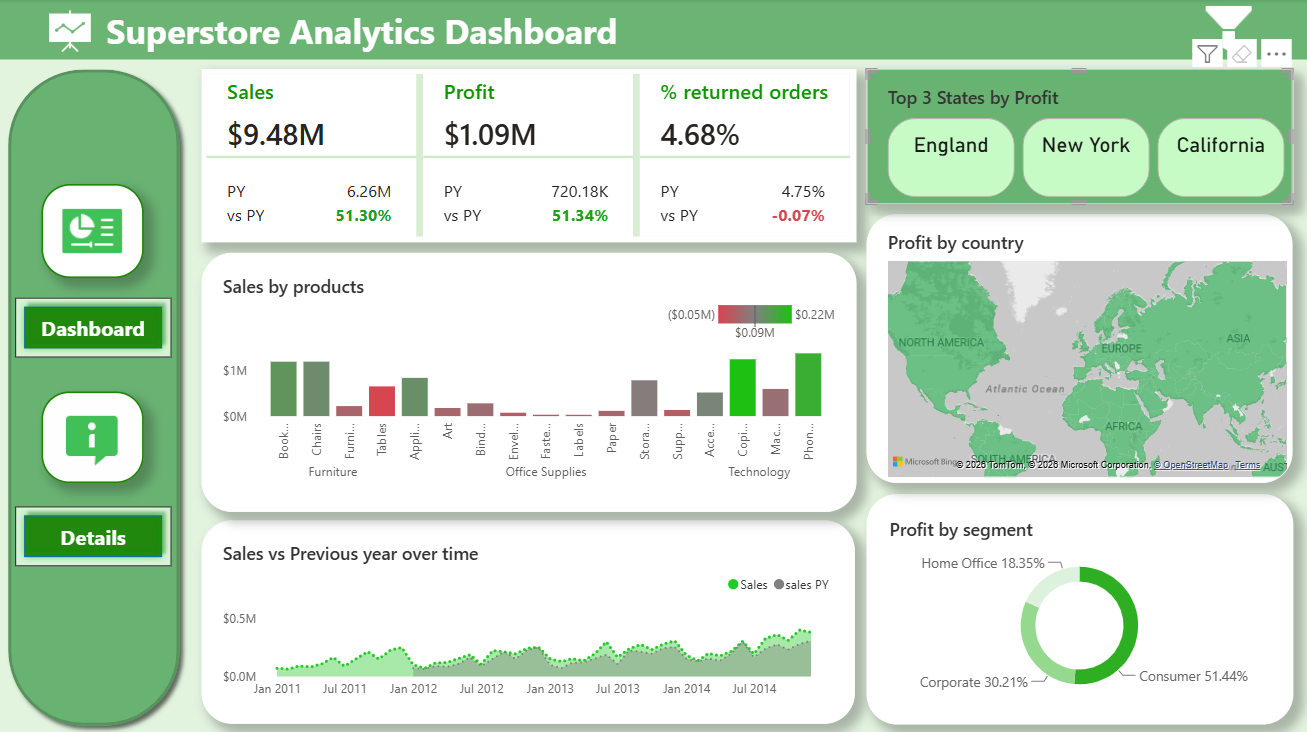

The page's visual inventory and layout, read from the dashboard file:
{"tool":"powerbi","page":{"name":"Page 1","canvas":[1280,720],"ordinal":0},"visuals":[{"type":"image","title":"filter","box":[1165.5,0,75.2,60.7],"z":0,"group":"g1"},{"type":"shape","box":[0,60.2,185.7,660],"z":0,"group":"g2"},{"type":"cardVisual","fields":{"Data":["Imp measures.Sales","Imp measures.Profit","Imp measures.% returned orders"]},"box":[197.5,68.4,640.6,169.7],"z":0},{"type":"shape","box":[0,0.2,1280,59.5],"z":1000},{"type":"actionButton","box":[17.2,496.8,149.6,39.2],"z":2000,"group":"g2"},{"type":"areaChart","title":"Sales vs Previous year over time","fields":{"Category":["date table.start of month"],"Y":["Imp measures.Sales","Imp measures.sales PY"]},"box":[198.1,509.9,639.5,199.3],"z":2000},{"type":"columnChart","title":"Sales by products","fields":{"Category":["Orders.Category","Orders.Sub-Category"],"Y":["Imp measures.Sales"]},"box":[197.5,248.2,640.6,253.2],"z":3000},{"type":"donutChart","title":"Profit by segment","fields":{"Category":["Orders.Segment"],"Y":["Sum(Orders.Profit)"]},"box":[848.3,483.6,417.8,225.4],"z":4000},{"type":"filledMap","title":"Profit by country","fields":{"Category":["Orders.Country"]},"box":[848.3,210.2,416.5,263.3],"z":5000},{"type":"advancedSlicerVisual","title":"Top 3 States by Profit","fields":{"Values":["Orders.State"]},"box":[848.3,68.4,417.8,131.7],"z":6000},{"type":"group","id":"g1","title":"filter pane","box":[689.8,0,550.9,510.4],"z":7000},{"type":"group","id":"g2","title":"Group 1","box":[0,60.2,185.7,660],"z":8000},{"type":"shape","box":[15.9,292.3,152.9,58.7],"z":9000},{"type":"shape","box":[15.9,496.5,152.9,58.7],"z":10000},{"type":"image","box":[35.7,6.2,67.7,50.5],"z":11000},{"type":"image","box":[41.9,181,99.7,92.3],"z":12000},{"type":"image","box":[41.9,384.1,99.7,89.9],"z":13000}]}

Visuals, with their boxes in screenshot pixels (x1, y1, x2, y2), scaled from the page's 1280x720 canvas onto the 1307x732 screenshot:
"filter" image: <region>1190, 0, 1267, 62</region>
shape: <region>0, 61, 190, 731</region>
cardVisual - Imp measures.Sales x Imp measures.Profit: <region>202, 70, 856, 242</region>
shape: <region>0, 0, 1306, 61</region>
actionButton: <region>18, 505, 170, 545</region>
"Sales vs Previous year over time" areaChart: <region>202, 518, 855, 721</region>
"Sales by products" columnChart: <region>202, 252, 856, 510</region>
"Profit by segment" donutChart: <region>866, 492, 1293, 721</region>
"Profit by country" filledMap: <region>866, 214, 1291, 481</region>
"Top 3 States by Profit" advancedSlicerVisual: <region>866, 70, 1293, 203</region>
"filter pane" group: <region>704, 0, 1267, 519</region>
"Group 1" group: <region>0, 61, 190, 731</region>
shape: <region>16, 297, 172, 357</region>
shape: <region>16, 505, 172, 564</region>
image: <region>36, 6, 106, 58</region>
image: <region>43, 184, 145, 278</region>
image: <region>43, 391, 145, 482</region>
